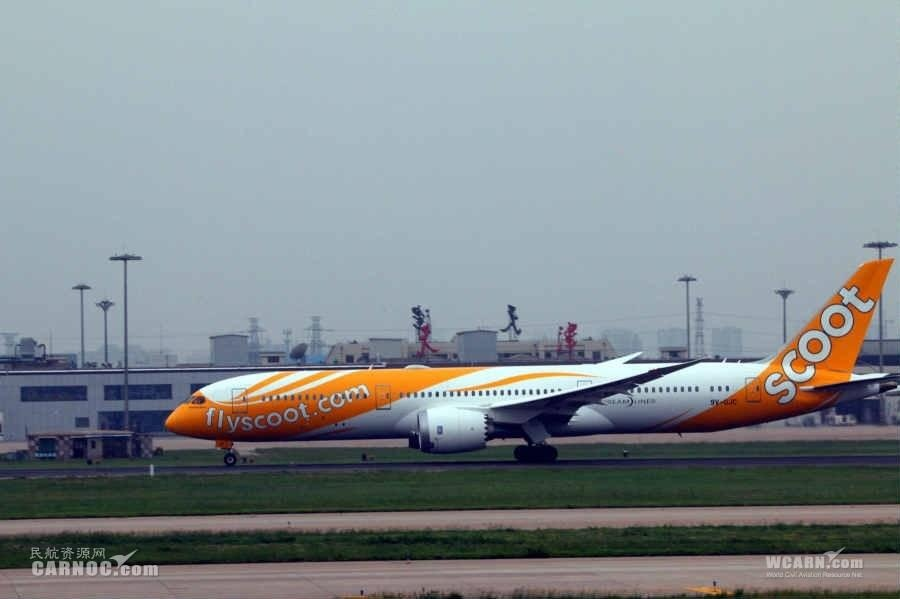airplane: (162, 253, 900, 479)
